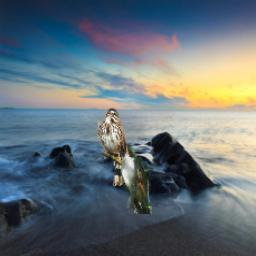Cuckoo: (112, 141, 152, 214)
Sparrow: (96, 109, 126, 187)
